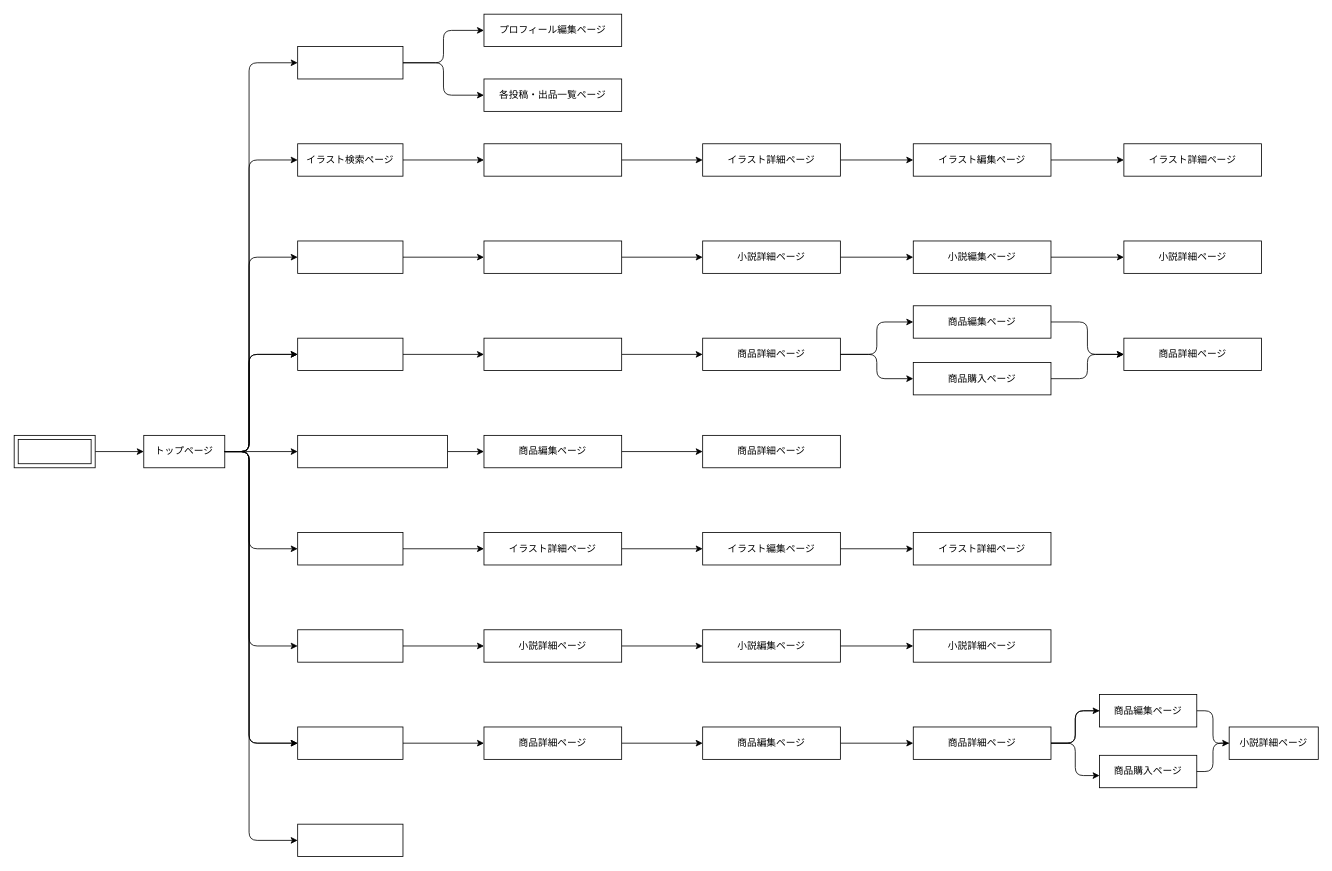
Image size: 1332x871. Some labels were removed from this diagram. Here are the shapes that lost their labels. From the top down, the centre of each, then its label:
pixel 350 62: ユーザー詳細ページ
pixel 552 159: イラスト一覧ページ
pixel 350 256: 小説検索ページ
pixel 552 256: 小説一覧ページ
pixel 350 354: 商品検索ページ
pixel 552 354: 商品一覧ページ
pixel 54 451: ログイン
pixel 372 451: イラスト、小説、商品詳細ページ
pixel 350 548: イラスト投稿ページ
pixel 350 645: 小説投稿ページ
pixel 350 742: 商品出品ページ
pixel 350 840: お気に入りページ
